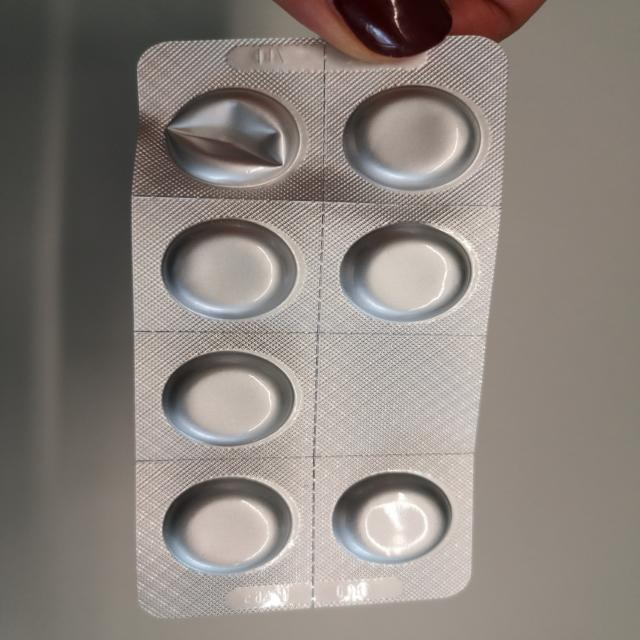Empty: (160, 85, 302, 193)
Pill: (340, 82, 488, 194), (155, 215, 304, 322), (156, 344, 301, 451), (155, 474, 297, 578), (336, 219, 474, 323), (326, 471, 447, 567)
